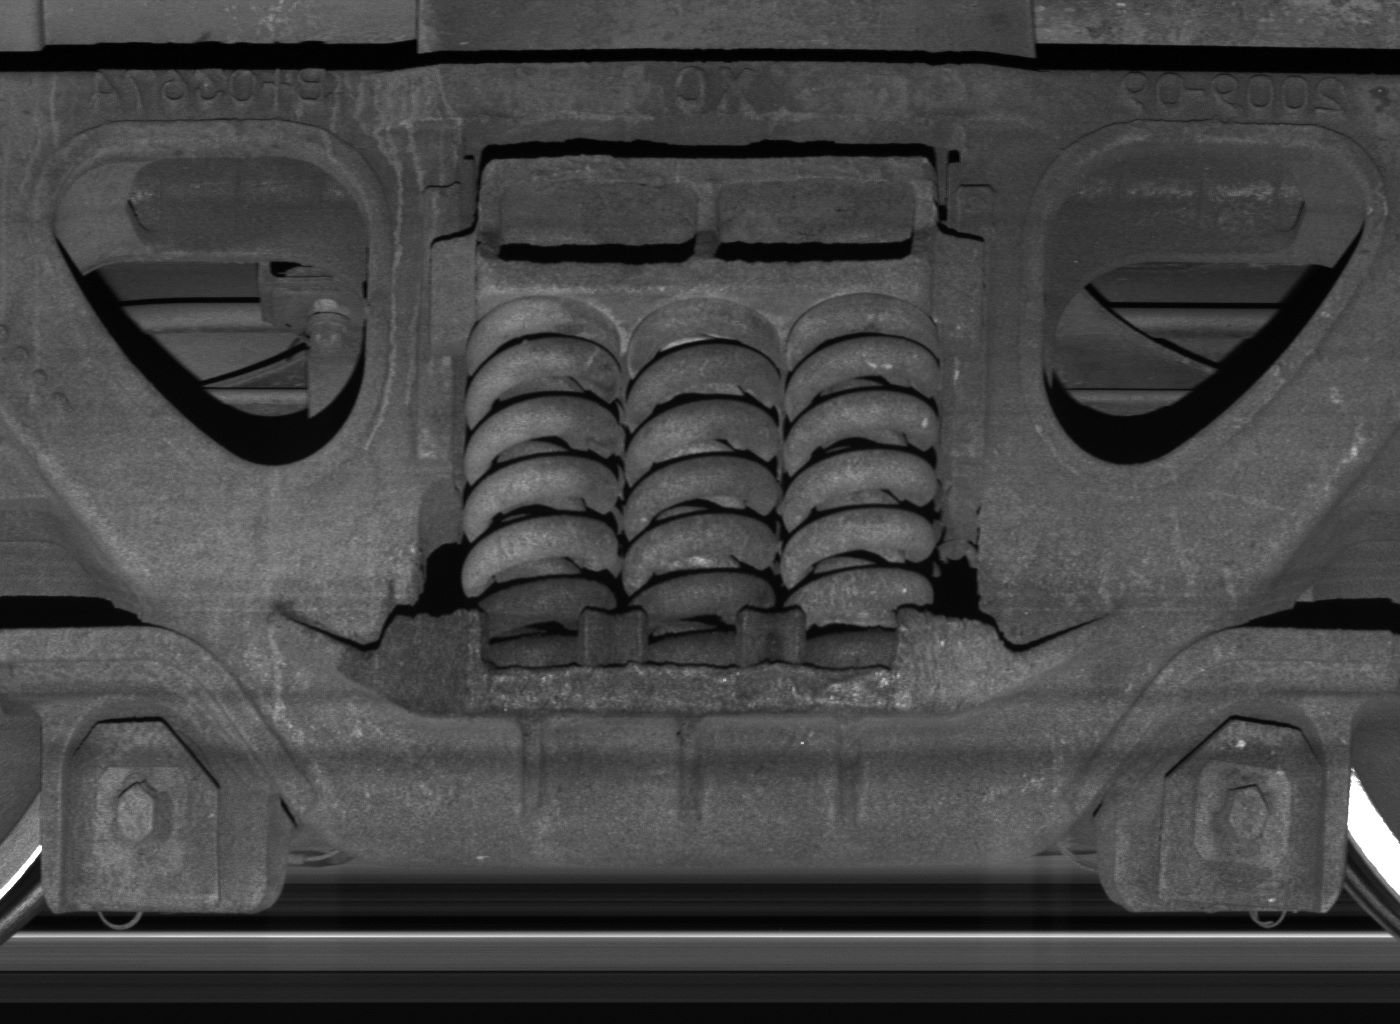normal: (1110, 702, 1349, 911), (40, 700, 264, 909)
